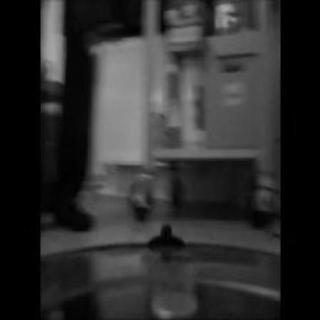other: (137, 50, 259, 168)
